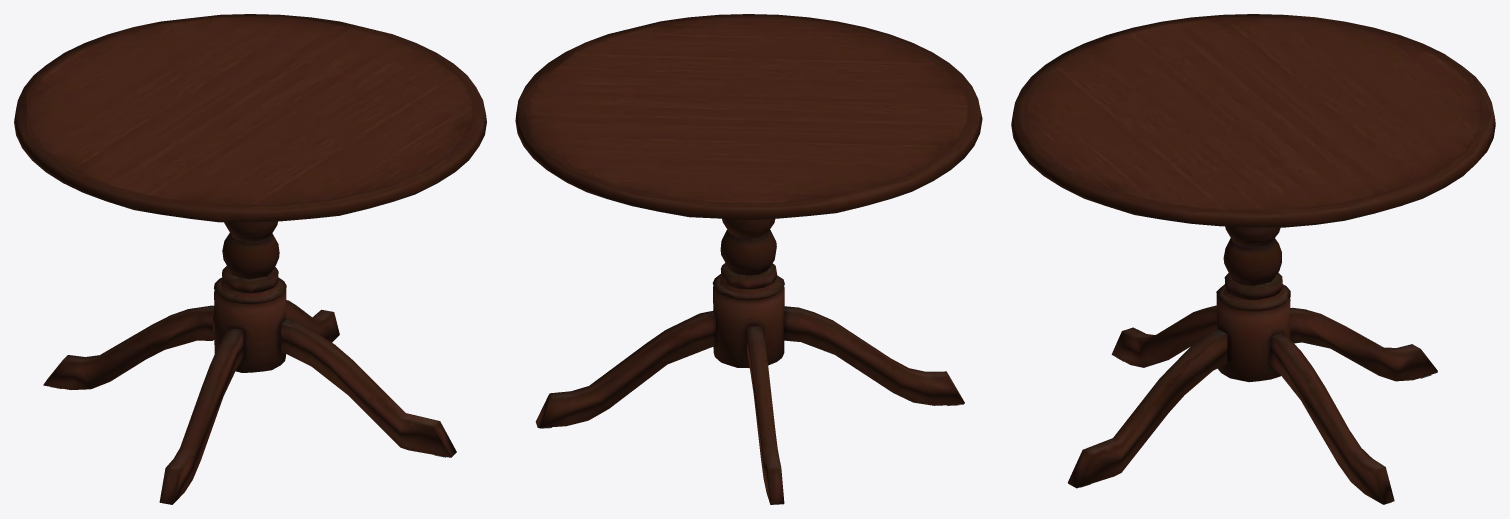
Rendered from scene-table.glb.
3 views of the same model, side by side, from view 1: azimuth 30°, elevation 25°; view 2: azimuth 150°, elevation 25°; view 3: azimuth 270°, elevation 25° (orthographic). The views are drawn at different scales.
Visible parts, largest first — view 1: round_wooden_table_01; view 2: round_wooden_table_01; view 3: round_wooden_table_01.
Boxes of the visible parts, <box> form: round_wooden_table_01: <box>14,14,486,504</box>; round_wooden_table_01: <box>515,14,982,504</box>; round_wooden_table_01: <box>1011,14,1495,504</box>.
Size of the model in its own units: 1.4 by 1 by 1.4.
Materials: 1 (1 with a texture image).
